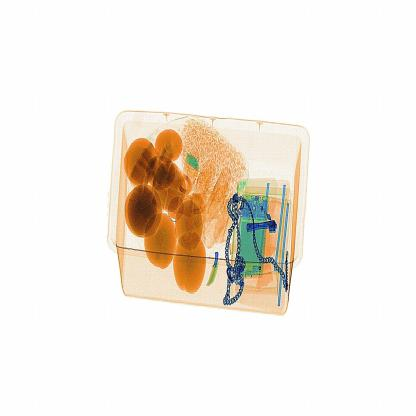wrench: (208, 247, 224, 288)
